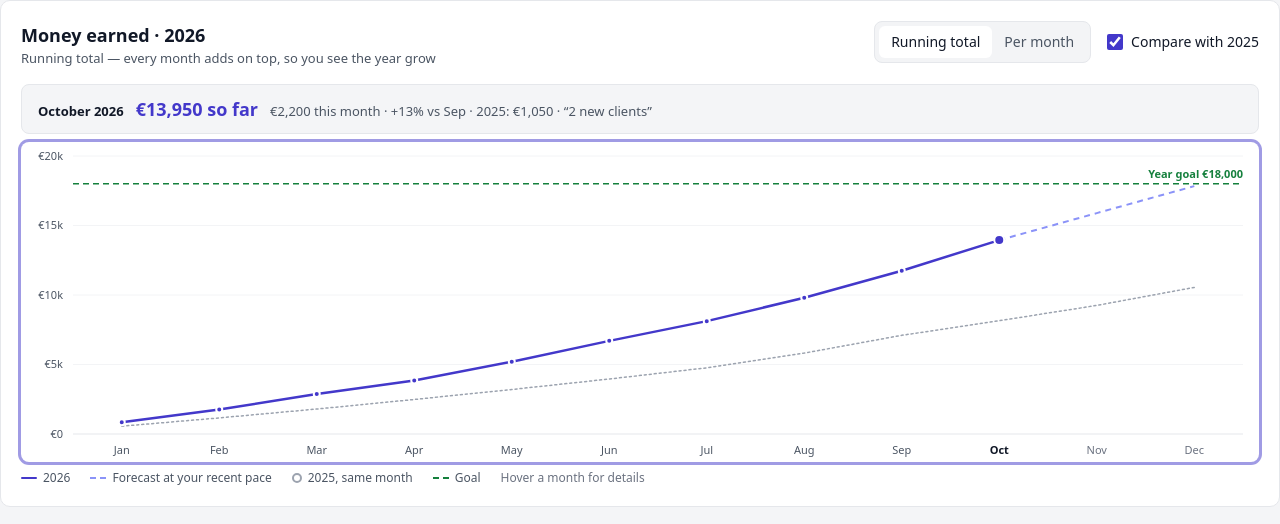
Scenario: MetricChart › shows the latest month’s details, reads months with the keyboard and switches mode
The width and height of the screenshot is (1280, 524).
Expected: the heading "Money earned · 2026" is shown, x1=21 y1=23 x2=205 y2=47
Press Arrowleft
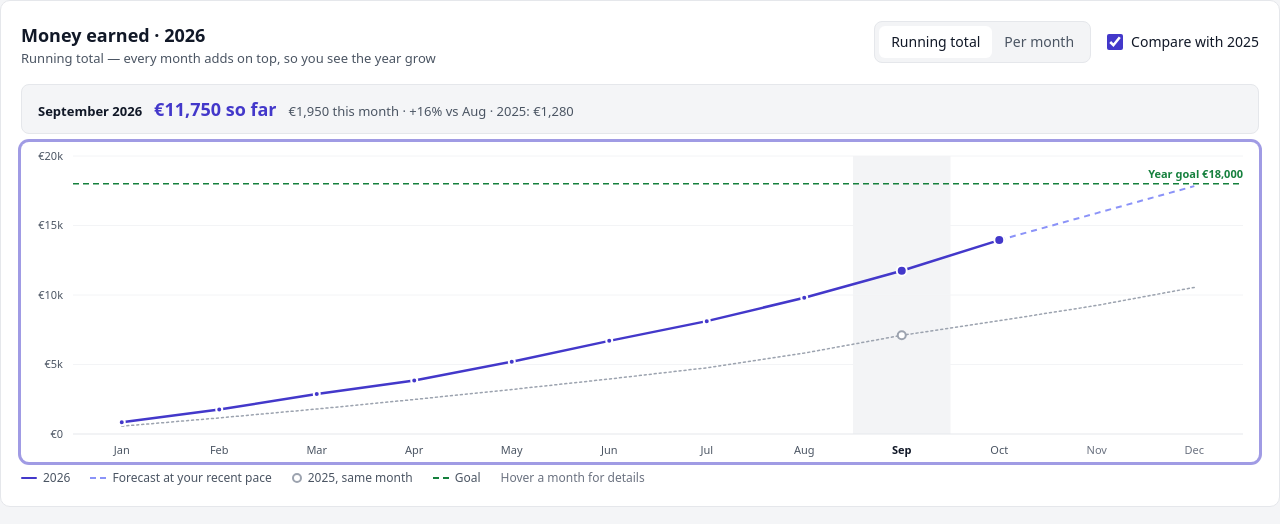
Now the slider named "Money earned 2026, choose a month" has attribute aria-valuenow="9", box x1=21 y1=142 x2=1259 y2=462
Press End
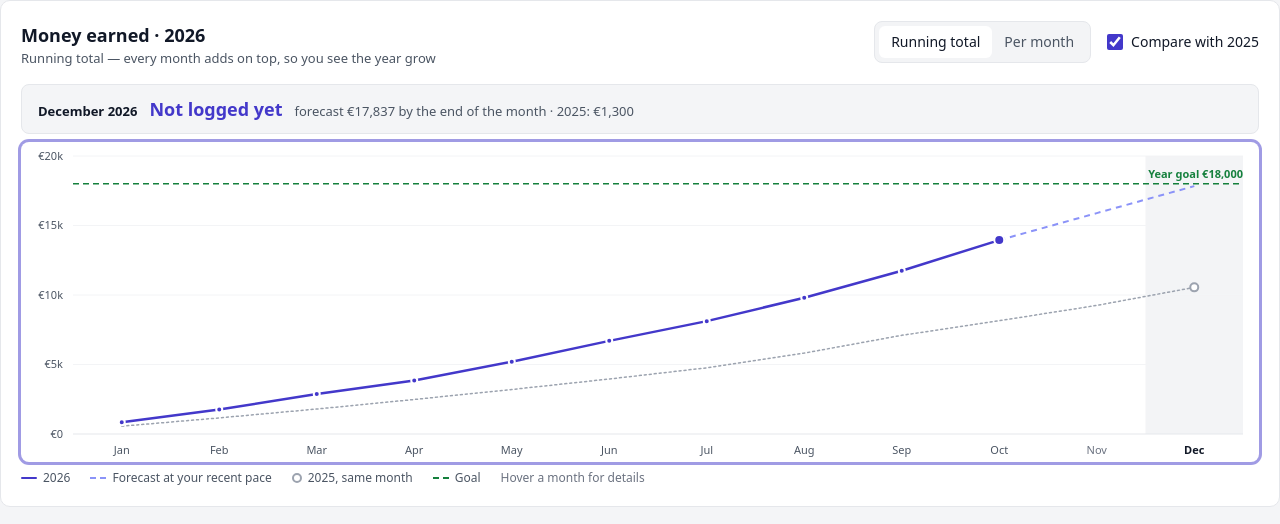
Expected: the list item "Forecast at your recent pace" is shown, x1=90 y1=470 x2=272 y2=486
Expected: the list item "2025, same month" is shown, x1=292 y1=470 x2=413 y2=486
Click the checkbox labelled "Compare with 2025" at (1115, 42), box x1=1107 y1=34 x2=1123 y2=50
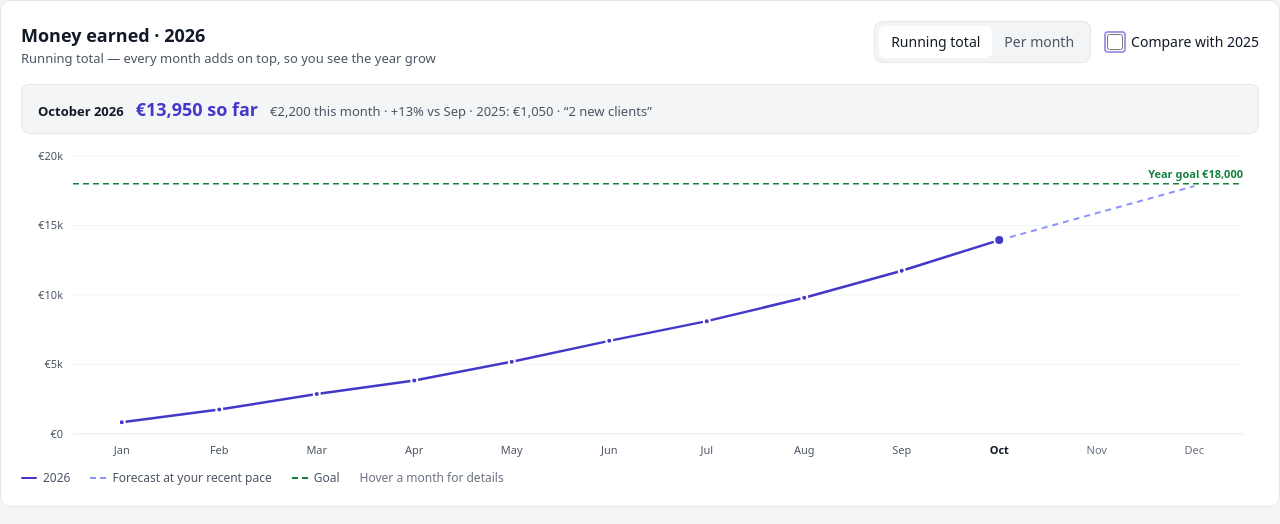
Now the list item "2025, same month" is gone
Click the button "Per month" at (1039, 42), box x1=992 y1=26 x2=1086 y2=58
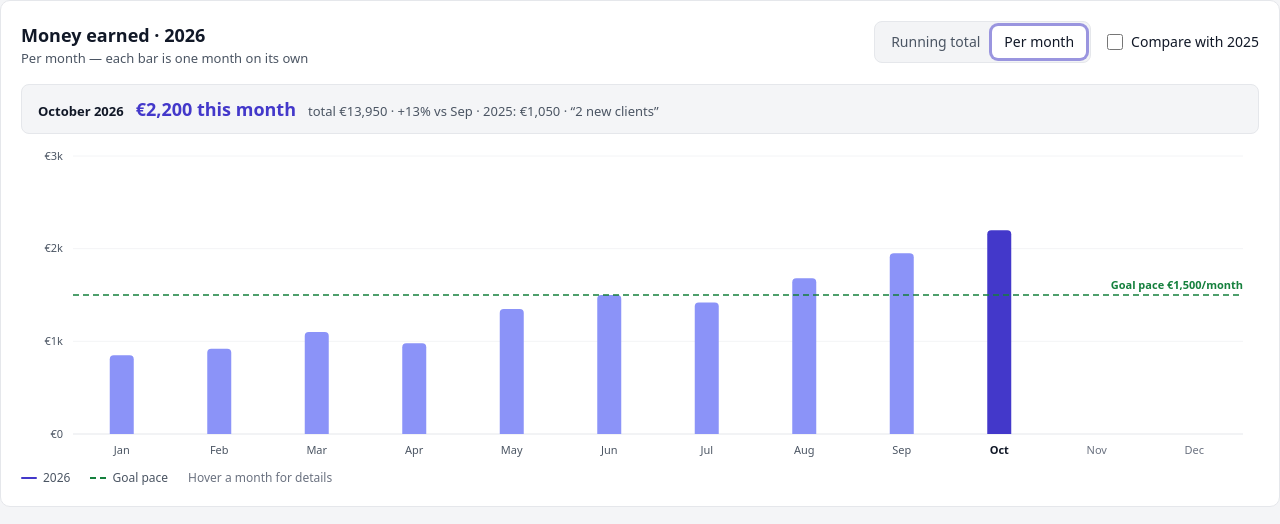
Now the text "Per month — each bar is one month on its own" is shown, box x1=21 y1=49 x2=308 y2=68
Now the list item "Goal pace" is shown, box x1=90 y1=470 x2=168 y2=486
